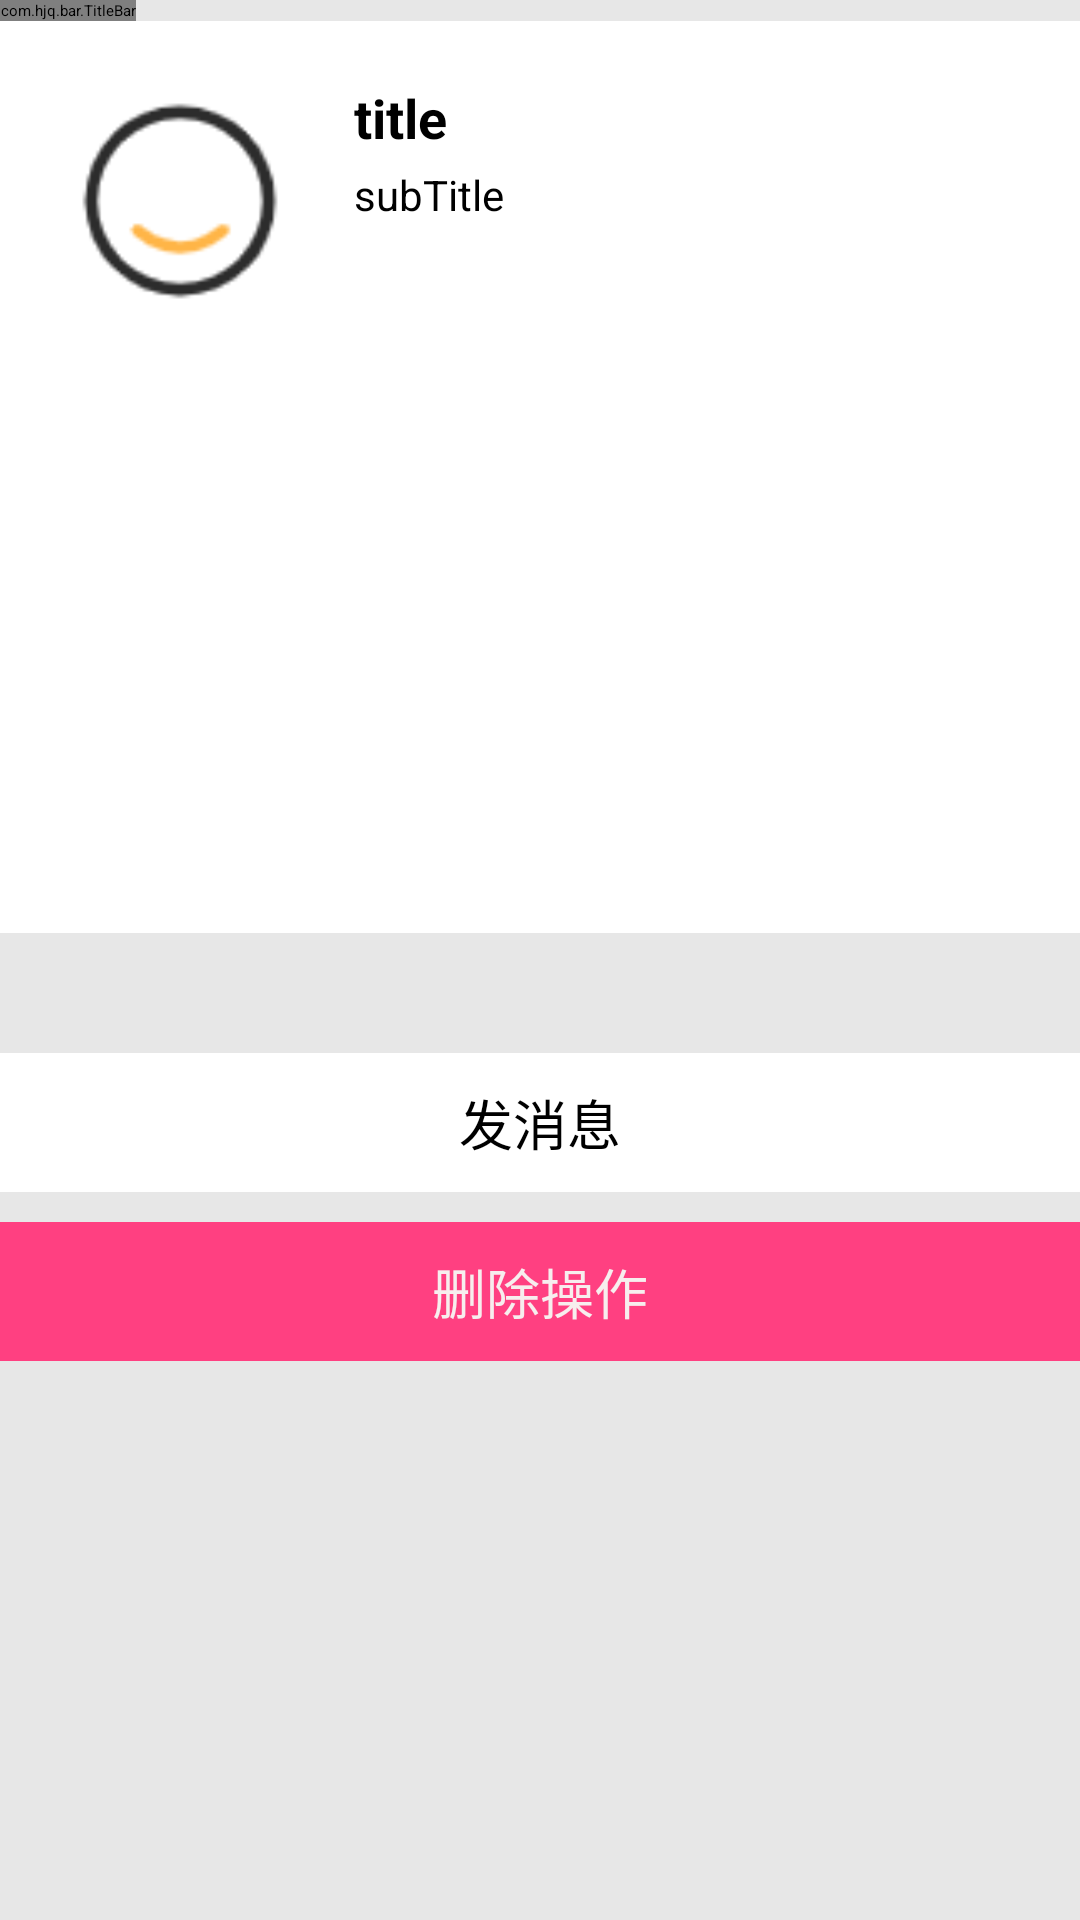

Point at icon controls on the screen. Image size 1080x1920, points as [x,y].
头像: [180,201]
